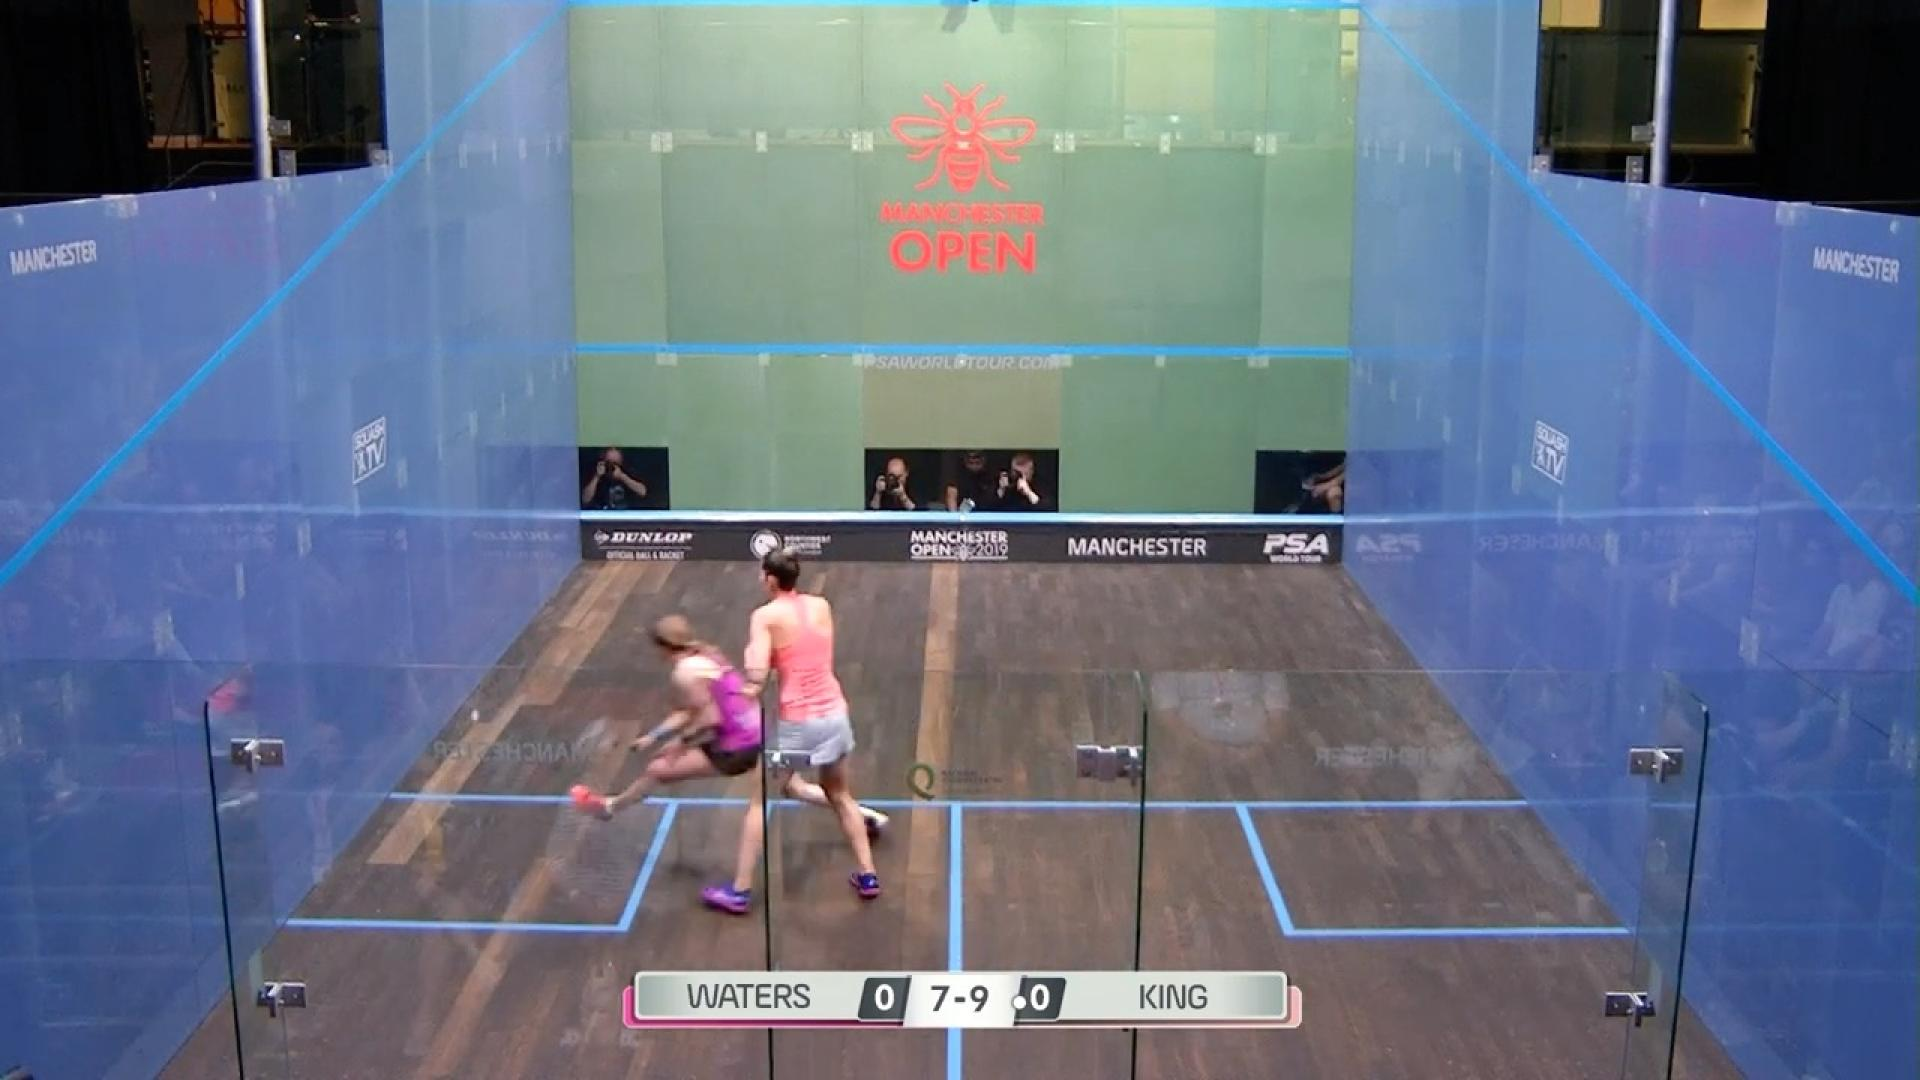Squash-Ball: (455, 690, 502, 745)
